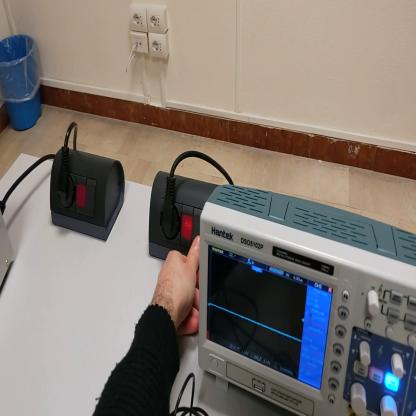hand: (155, 229, 209, 334)
oscilloscope: (197, 177, 416, 414)
power supply: (2, 207, 16, 300)
socket: (145, 173, 225, 266), (49, 148, 127, 242)
